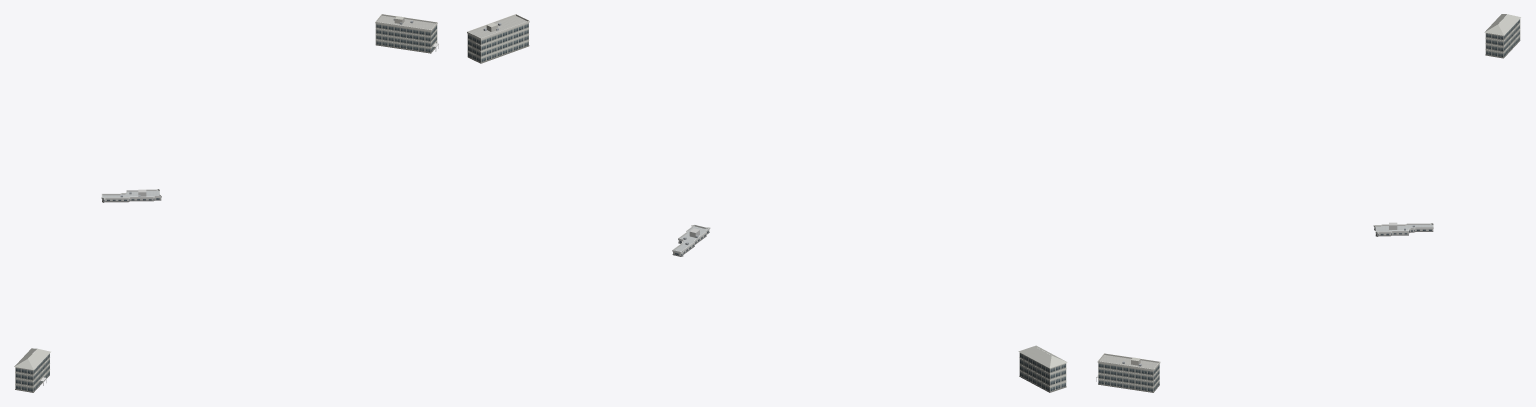
3 renders of one model, left to right at view 1: azimuth 90°, elevation 25°; view 2: azimuth 150°, elevation 25°; view 3: azimuth 270°, elevation 25°, orthographic. The views are drawn at different scales.
Visible parts, largest first — view 1: 1321673134, 1321673164, scan-tcp; view 2: 1321673134, 1321673164, scan-tcp; view 3: 1321673134, 1321673164, scan-tcp.
Part boxes in pixels (x1=…): 1321673134: x1=375, y1=14, x2=438, y2=53; 1321673164: x1=14, y1=348, x2=50, y2=392; scan-tcp: x1=101, y1=189, x2=161, y2=202; 1321673134: x1=467, y1=14, x2=529, y2=63; 1321673164: x1=1018, y1=345, x2=1067, y2=392; scan-tcp: x1=672, y1=224, x2=710, y2=256; 1321673134: x1=1096, y1=353, x2=1160, y2=392; 1321673164: x1=1484, y1=14, x2=1520, y2=58; scan-tcp: x1=1373, y1=222, x2=1433, y2=236.
Size of the model in its own units: 514 by 19.39 by 259.
Materials: 5 (4 with a texture image).
